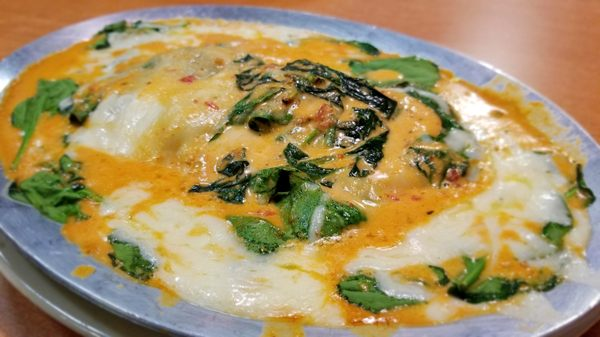curry: (7, 0, 599, 330)
sandwich: (5, 17, 596, 331)
